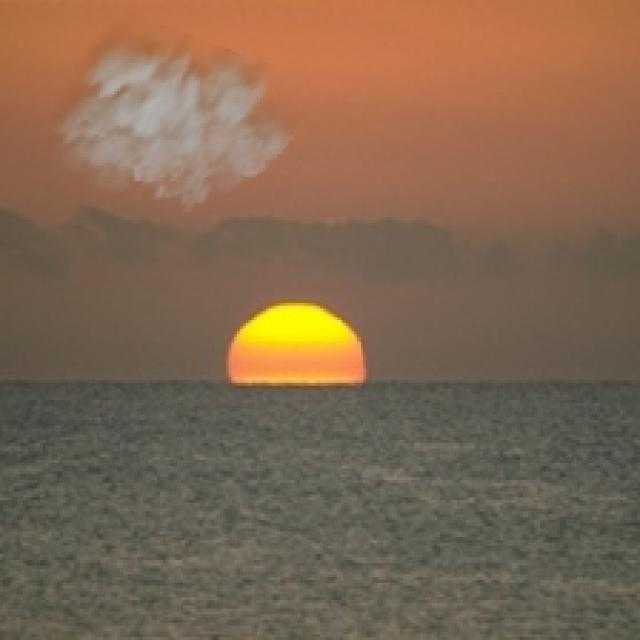Smoke: (43, 12, 306, 215)
